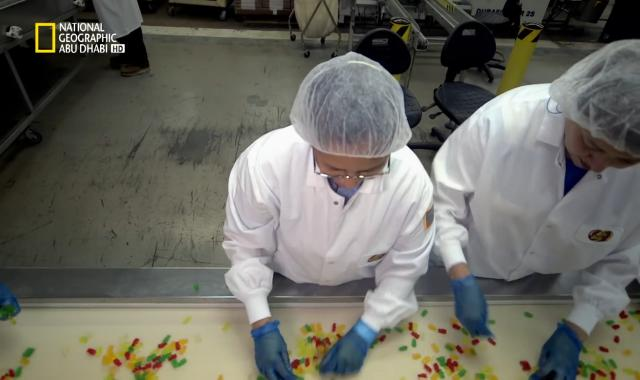hairnet: (560, 49, 640, 176), (297, 64, 402, 159)
